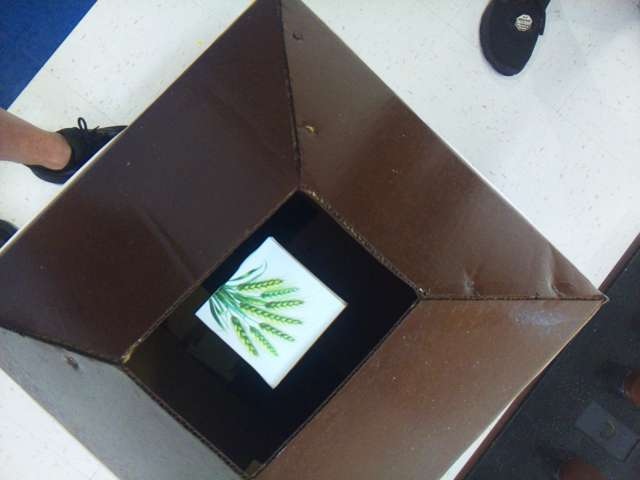wheat_barn: (197, 237, 344, 384)
